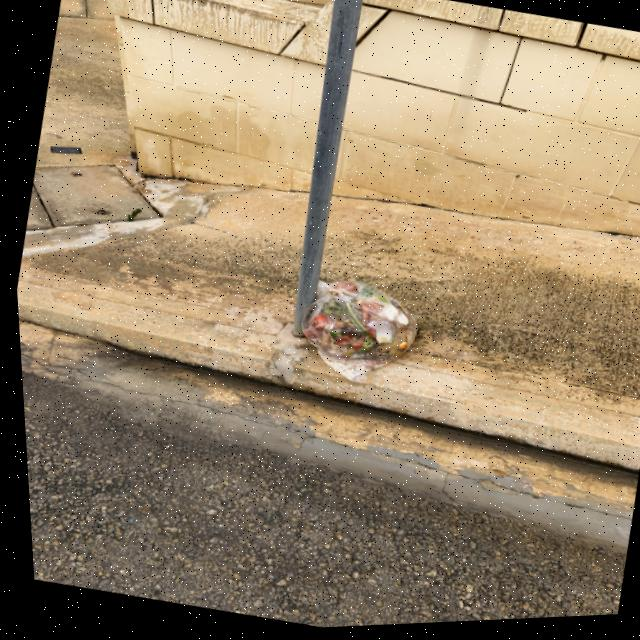Organic Waste -White Bag-: (290, 272, 421, 386)
